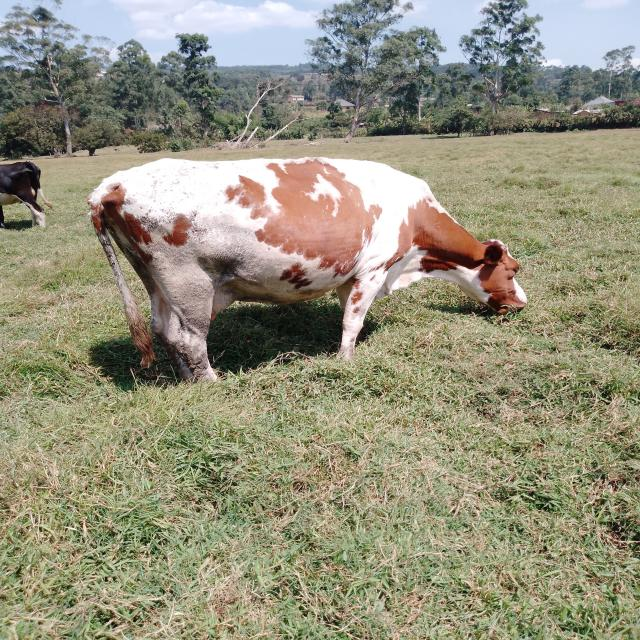Right: (88, 158, 527, 381)
